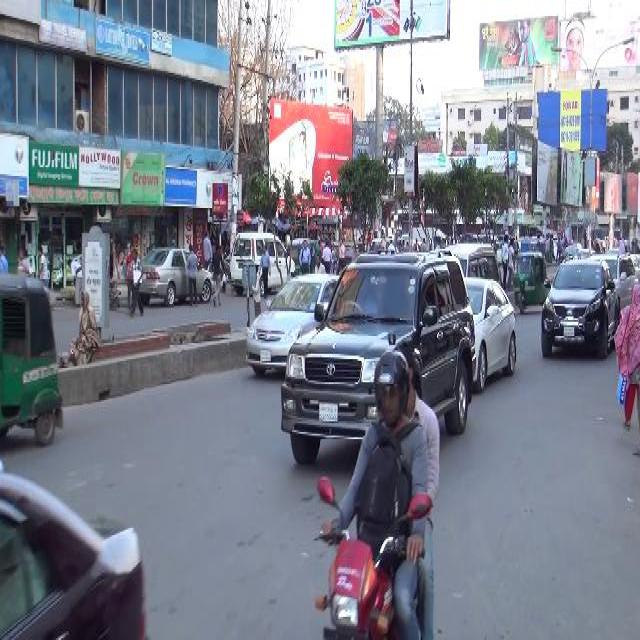car: (242, 269, 338, 378), (469, 273, 516, 395), (134, 242, 216, 308), (588, 252, 636, 314)
minivan: (228, 225, 296, 298)
motorbike: (311, 339, 451, 639)
suv: (282, 248, 478, 470), (538, 249, 620, 359), (438, 240, 504, 315)
three wheelers -CNG-: (0, 268, 66, 454), (513, 251, 547, 318)
